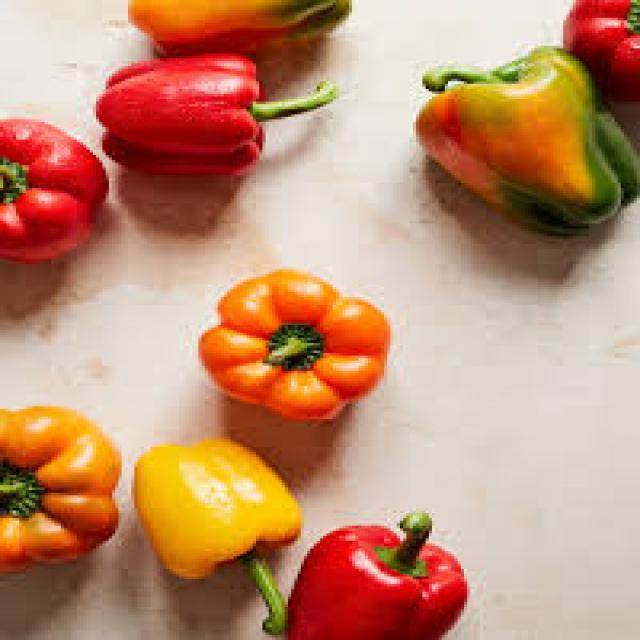Pepper: (414, 46, 640, 238), (200, 271, 386, 422), (266, 515, 470, 640), (133, 439, 303, 584), (94, 52, 266, 179), (0, 408, 122, 577), (0, 119, 107, 266), (128, 0, 354, 58), (564, 0, 640, 109)
